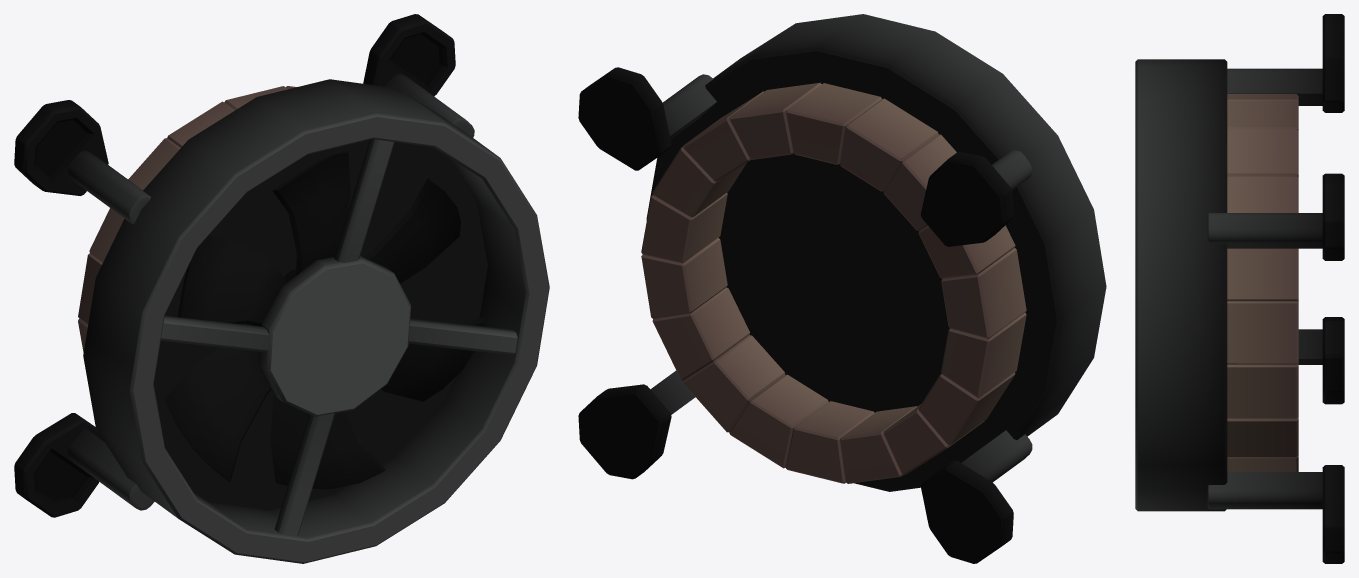
File: Cooling_systems_lvl_03_V07.fbx
The picture shows the model from 3 angles, left to right: view 1: azimuth 30°, elevation 25°; view 2: azimuth 150°, elevation 25°; view 3: azimuth 270°, elevation 25°; orthographic projection. The views are drawn at different scales.
Parts seen in each view (by area): view 1: Body_Cooling, Fan_Cooling; view 2: Body_Cooling; view 3: Body_Cooling.
Boxes of the visible parts, x1,y1,x2,y2 form: Body_Cooling: (14,14,549,563); Fan_Cooling: (164,152,484,489); Body_Cooling: (578,14,1106,563); Body_Cooling: (1135,14,1344,563).
Bounding box in the file's own units: 47.51 × 45.43 × 21.31.
